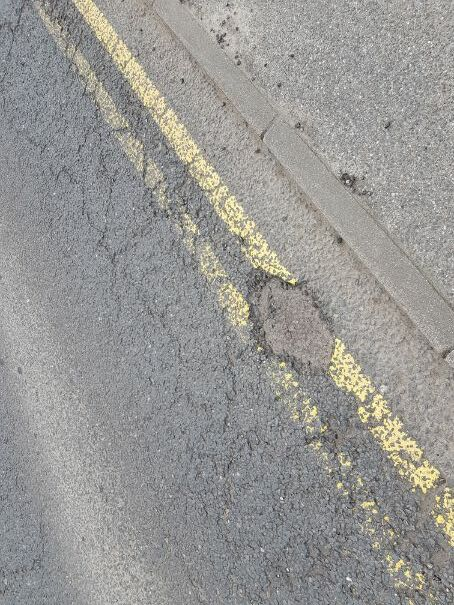pothole: (241, 263, 342, 377)
